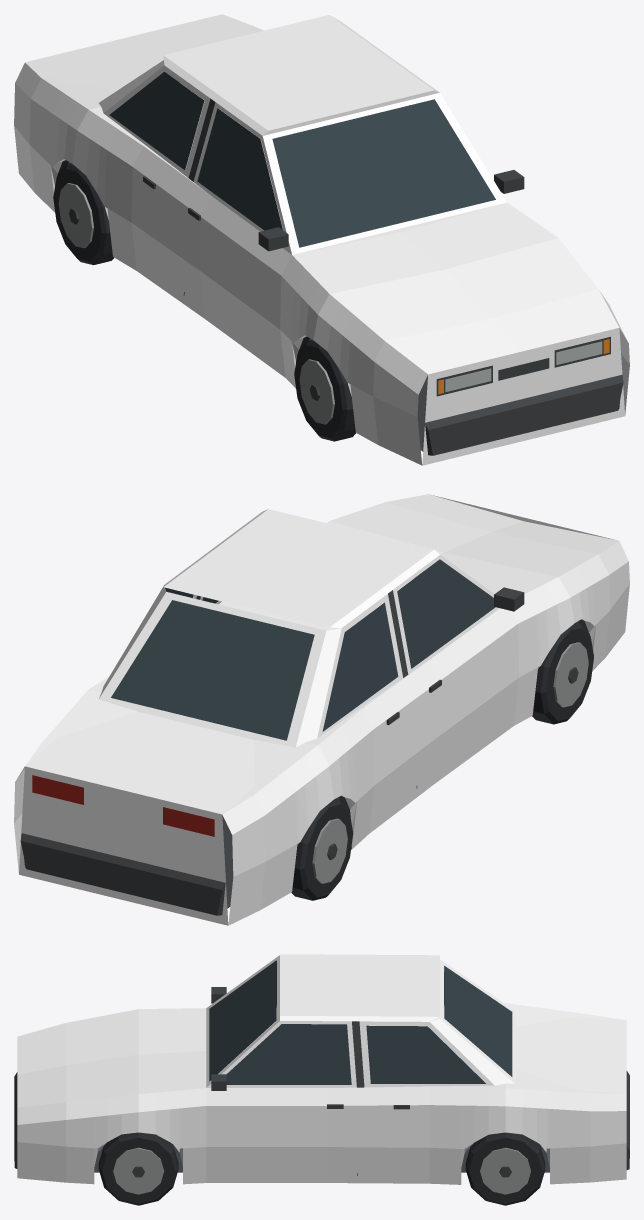
Rendered from garrison_gulch.glb.
3 renders of one model, top to bottom at view 1: azimuth 30°, elevation 25°; view 2: azimuth 150°, elevation 25°; view 3: azimuth 270°, elevation 25°, orthographic. The views are drawn at different scales.
Visible parts, largest first — view 1: garrison_gulch; view 2: garrison_gulch; view 3: garrison_gulch.
Part boxes in pixels (left/top/right/bottom): garrison_gulch: left=14, top=14, right=629, bottom=465; garrison_gulch: left=14, top=494, right=629, bottom=925; garrison_gulch: left=14, top=954, right=629, bottom=1205.
Size of the model in its own units: 1.81 by 1.52 by 4.85.
Materials: 8 (1 with a texture image).
